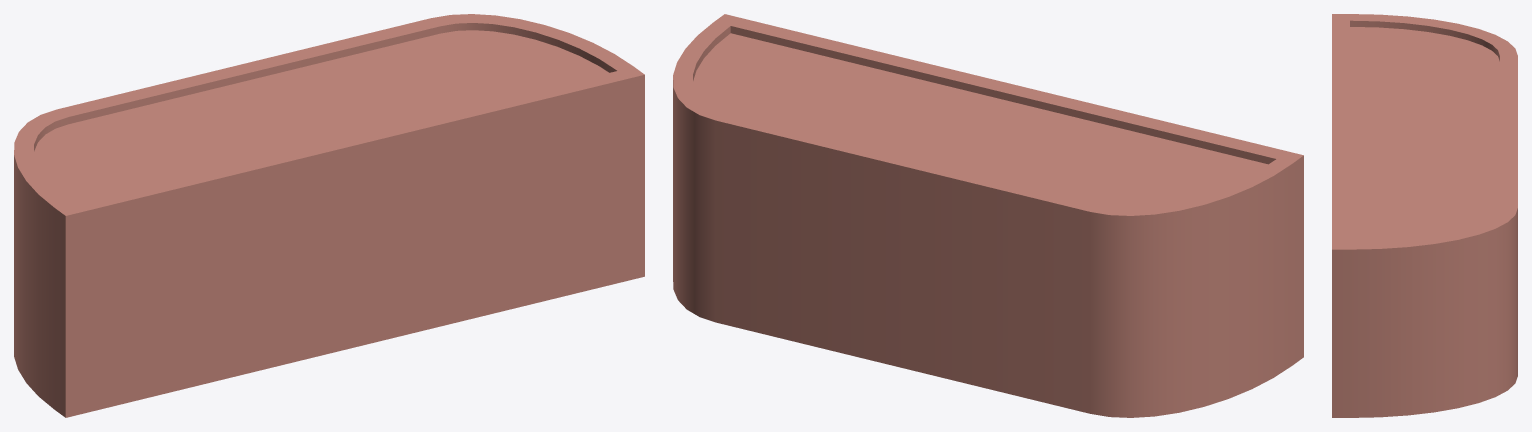
The model's file is RoundedBlock04_30x10.fbx.
3 views of the same model, side by side, from view 1: azimuth 30°, elevation 25°; view 2: azimuth 150°, elevation 25°; view 3: azimuth 270°, elevation 25° (orthographic). The views are drawn at different scales.
Parts seen in each view (by area): view 1: RoundedBlock04.002; view 2: RoundedBlock04.002; view 3: RoundedBlock04.002.
Boxes of the visible parts, x1=… form: RoundedBlock04.002: x1=14, y1=14, x2=644, y2=417; RoundedBlock04.002: x1=673, y1=14, x2=1303, y2=417; RoundedBlock04.002: x1=1332, y1=14, x2=1517, y2=417.
Size of the model in its own units: 3001 by 1000 by 1000.
